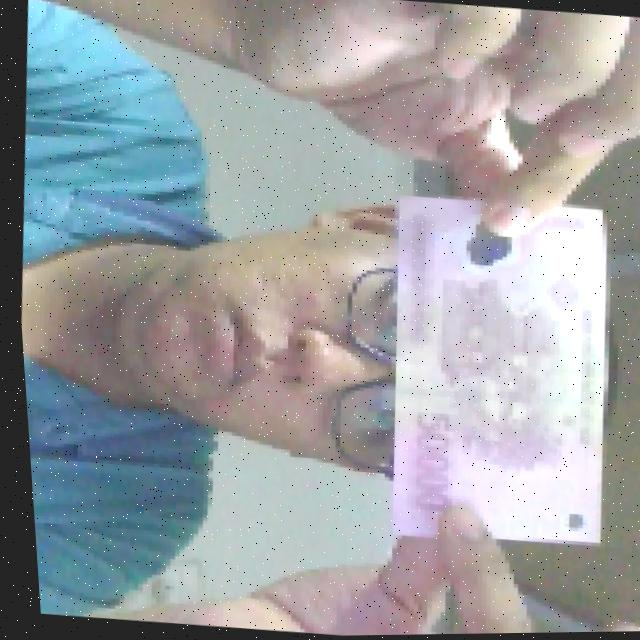20 000 VND: (360, 184, 631, 561)
